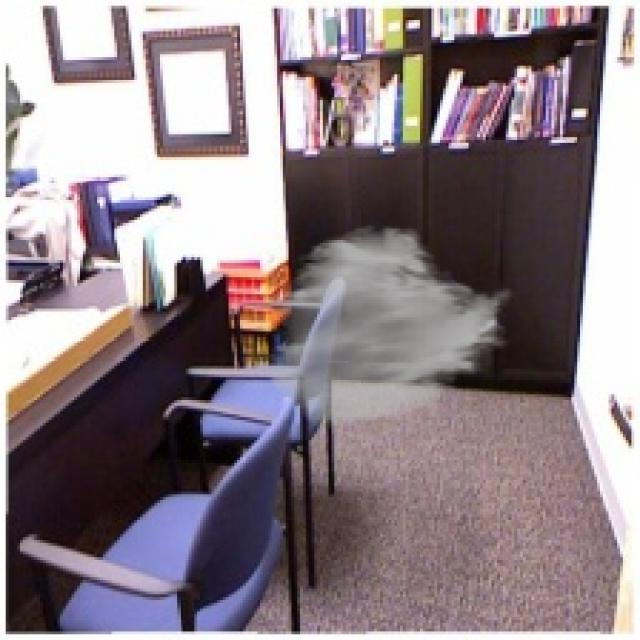Smoke: (262, 223, 518, 428)
